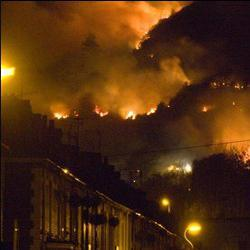fire: (188, 224, 201, 234), (3, 66, 15, 75), (123, 112, 135, 118), (54, 112, 64, 119), (162, 196, 168, 206)
